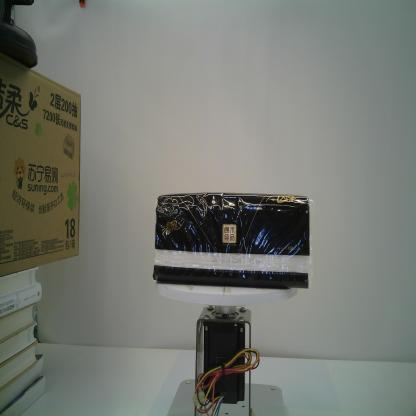Tissue: (151, 191, 314, 291)
